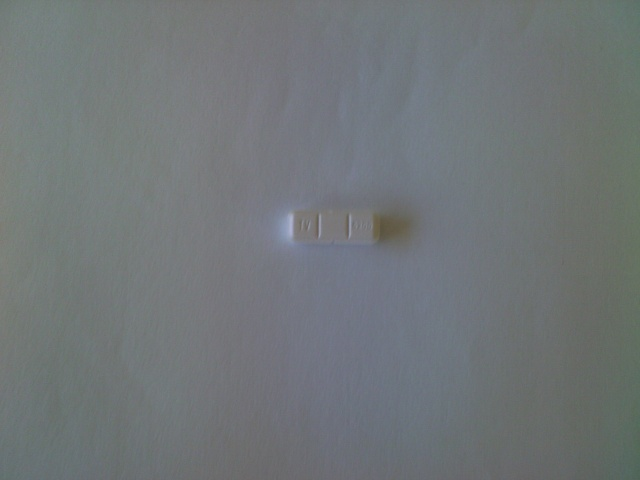V: (302, 217, 312, 232)
|: (312, 210, 321, 243), (343, 210, 352, 243)
